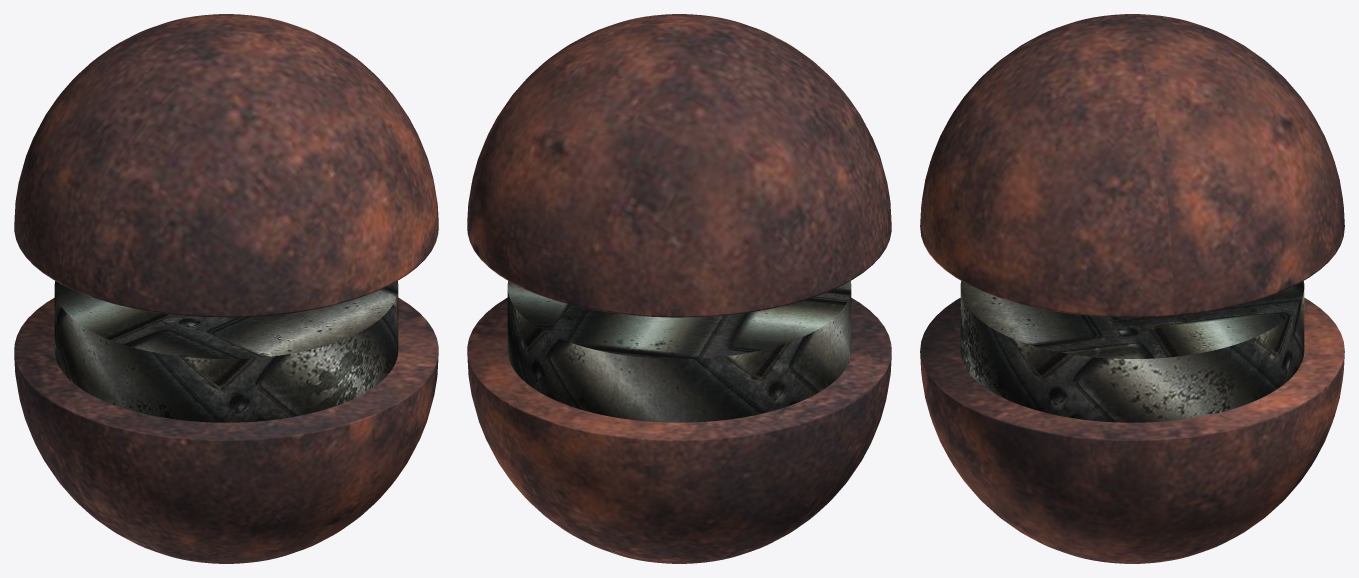
File: droid_anim_000026.obj
The picture shows the model from 3 angles, left to right: view 1: azimuth 30°, elevation 25°; view 2: azimuth 150°, elevation 25°; view 3: azimuth 270°, elevation 25°; orthographic projection.
Parts seen in each view (by area): view 1: Sphere.004, Sphere.005, Cylinder.002; view 2: Sphere.004, Sphere.005, Cylinder.002; view 3: Sphere.004, Sphere.005, Cylinder.002.
Boxes of the visible parts, box(x1,y1,x2,y2) form: Sphere.004: box(14, 14, 438, 317); Sphere.005: box(14, 297, 438, 563); Cylinder.002: box(54, 281, 398, 422); Sphere.004: box(467, 14, 891, 317); Sphere.005: box(467, 297, 891, 563); Cylinder.002: box(507, 281, 851, 422); Sphere.004: box(920, 14, 1344, 317); Sphere.005: box(920, 298, 1344, 563); Cylinder.002: box(960, 281, 1304, 422).
Bounding box in the file's own units: 2 × 2.65 × 2.
Materials: 3 (3 with a texture image).
